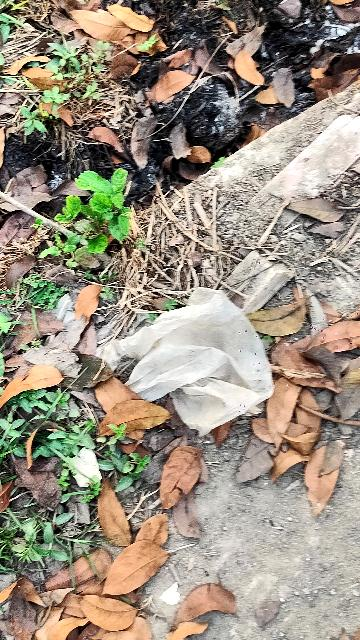polythene: (134, 300, 277, 422)
